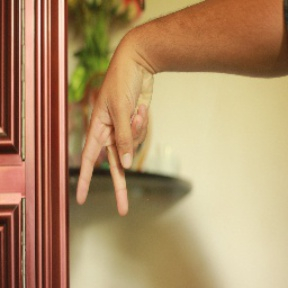Y: (76, 72, 154, 222)
